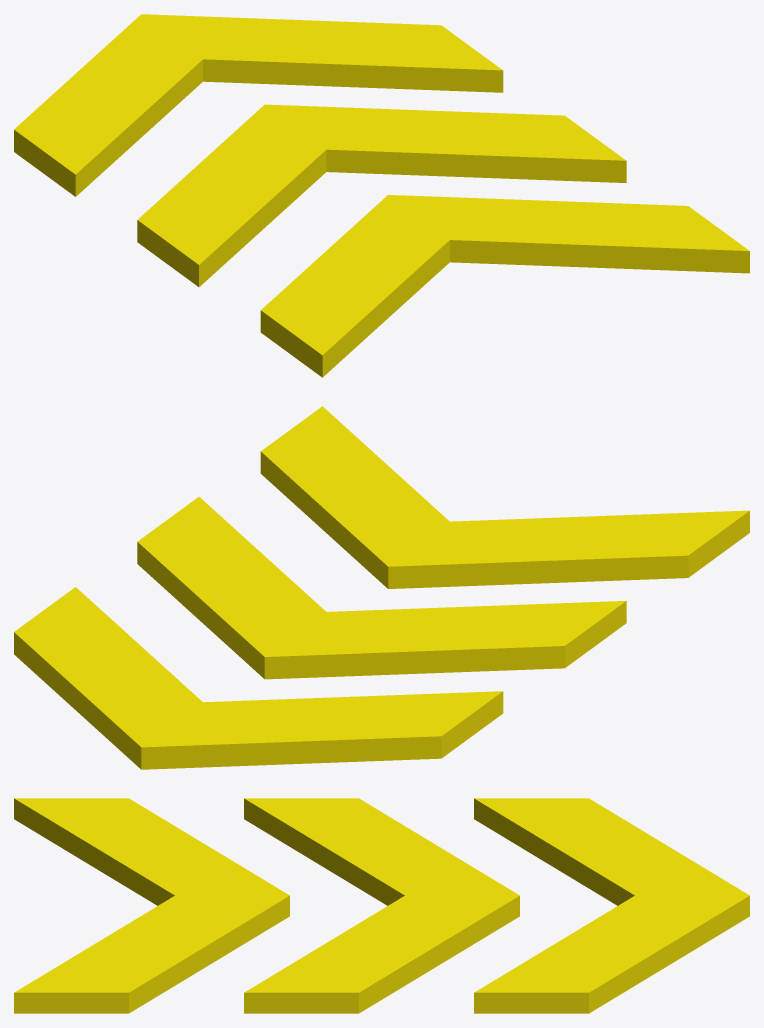
File: boost.fbx
3 views of the same model, one above another, from view 1: azimuth 30°, elevation 25°; view 2: azimuth 150°, elevation 25°; view 3: azimuth 270°, elevation 25° (orthographic). The views are drawn at different scales.
Parts seen in each view (by area): view 1: Boost; view 2: Boost; view 3: Boost.
Boxes of the visible parts, left/top/right/bottom form: Boost: left=14, top=14, right=749, bottom=377; Boost: left=14, top=406, right=749, bottom=769; Boost: left=14, top=798, right=749, bottom=1013.
Size of the model in its own units: 16 by 0.8 by 25.6.
